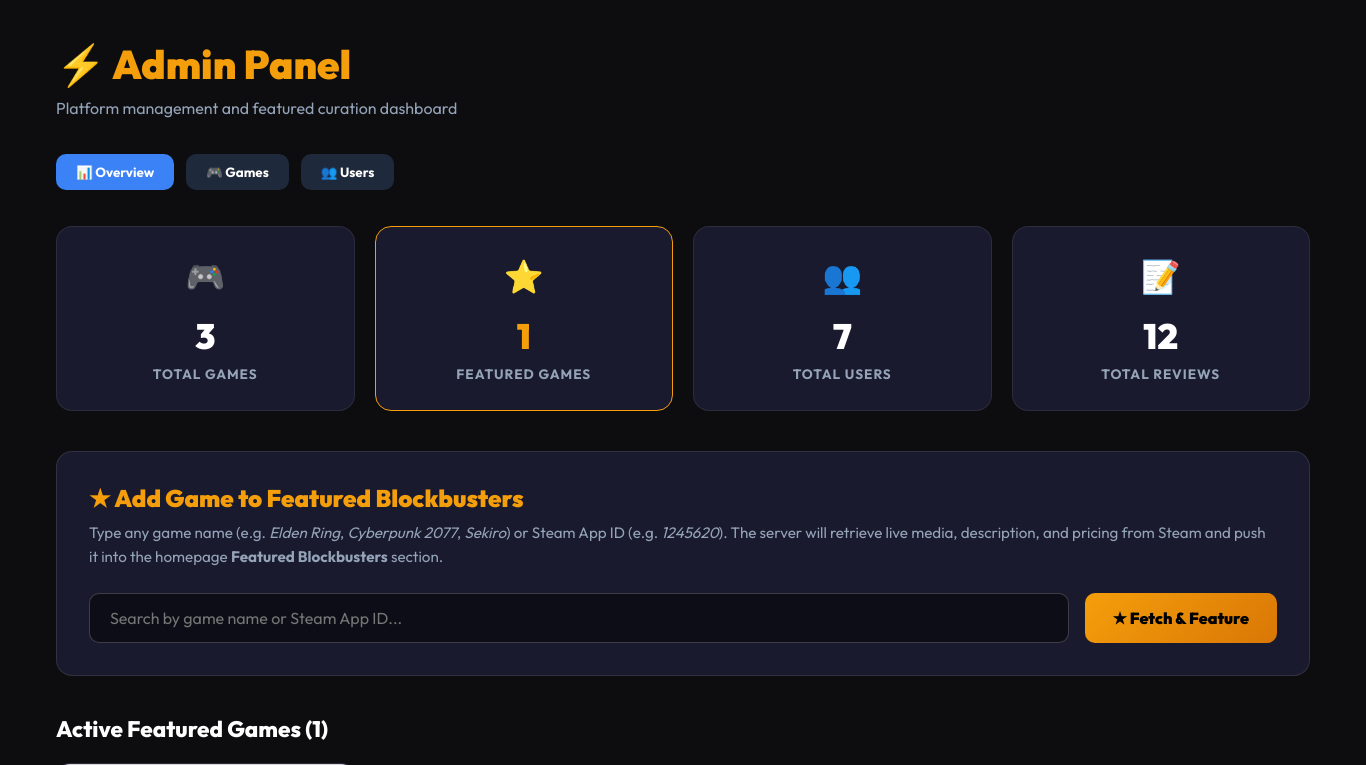
AdminPanel › feature-steam-game form (handleFeatureSubmit) › shows the server error message on failure
Type "bogus999" into the field labelled "Search by game name or Steam App ID..." at (579, 618), box x1=89 y1=593 x2=1069 y2=643
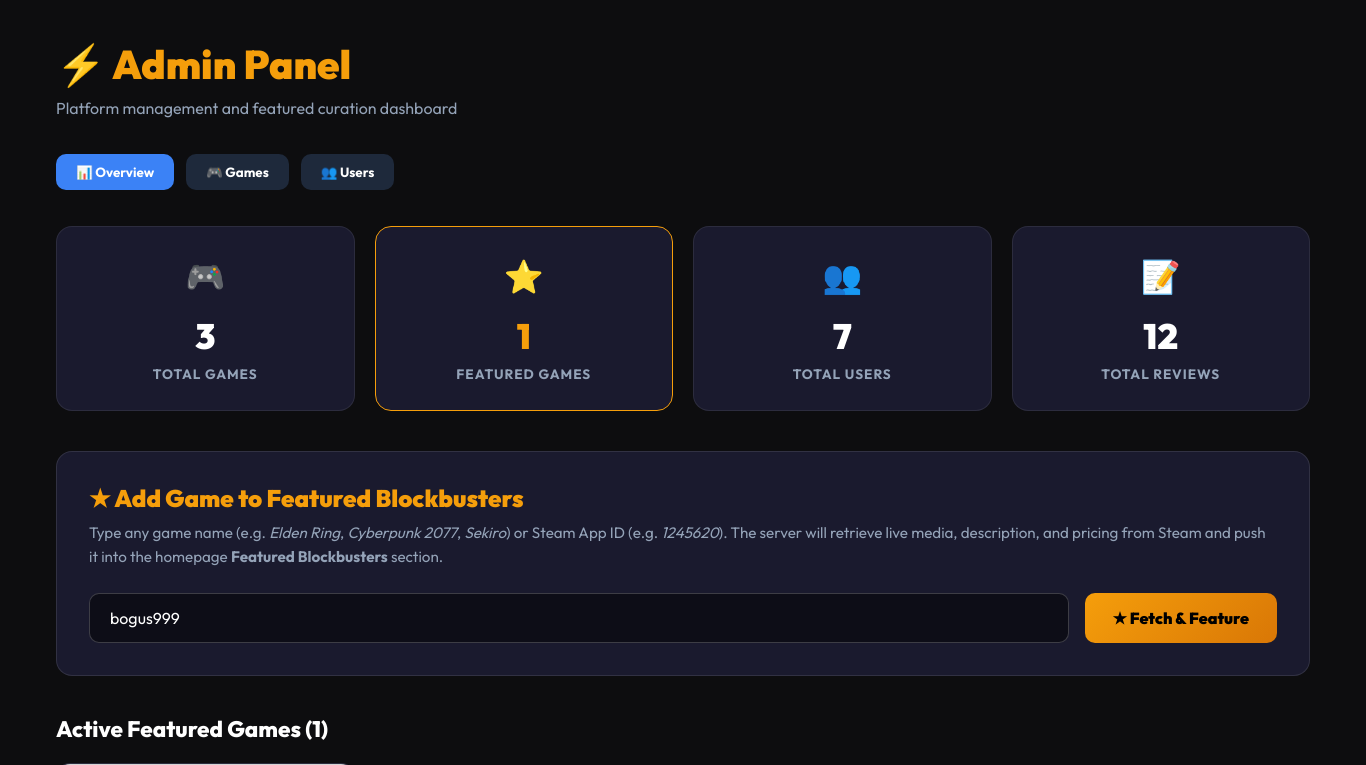
Click the button "★ Fetch & Feature" at (1181, 618), box x1=1085 y1=593 x2=1277 y2=643
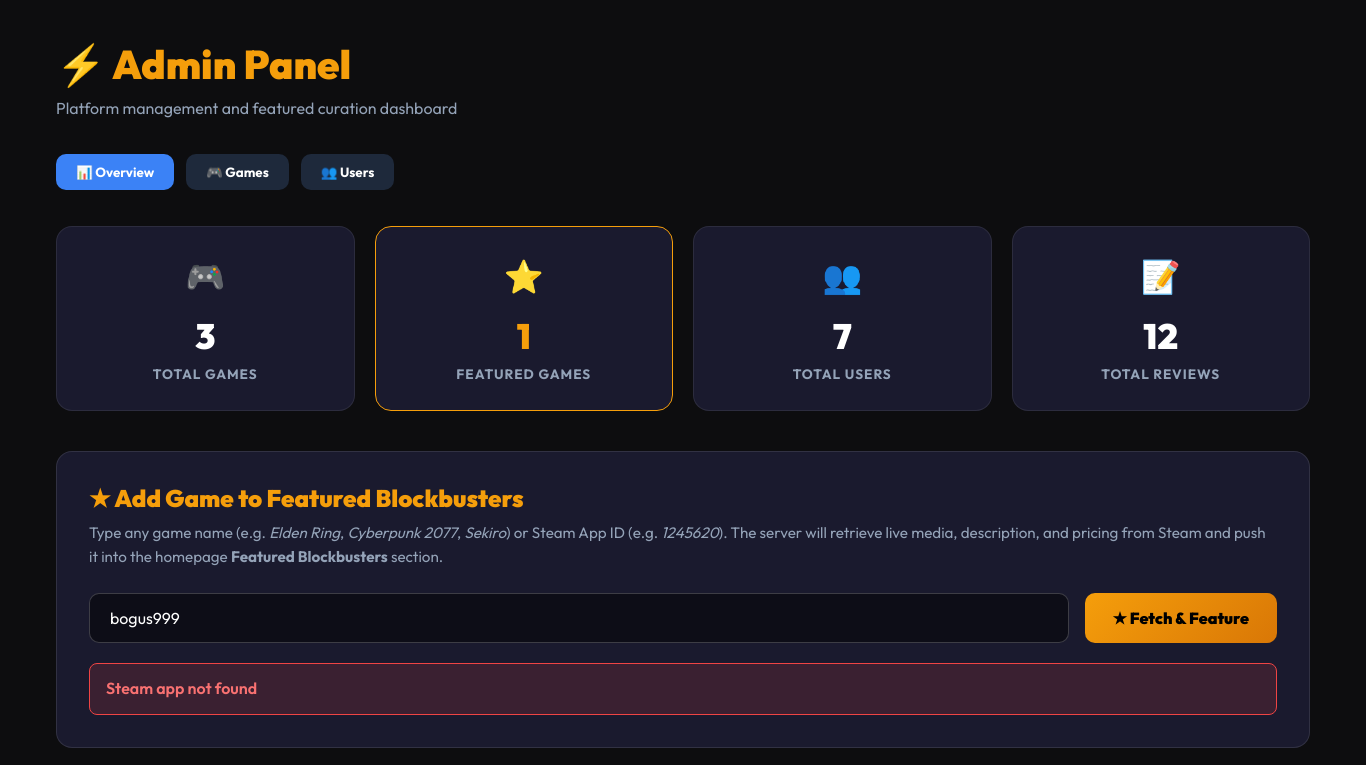
Now the text "Steam app not found" is shown, box x1=89 y1=663 x2=1277 y2=715
